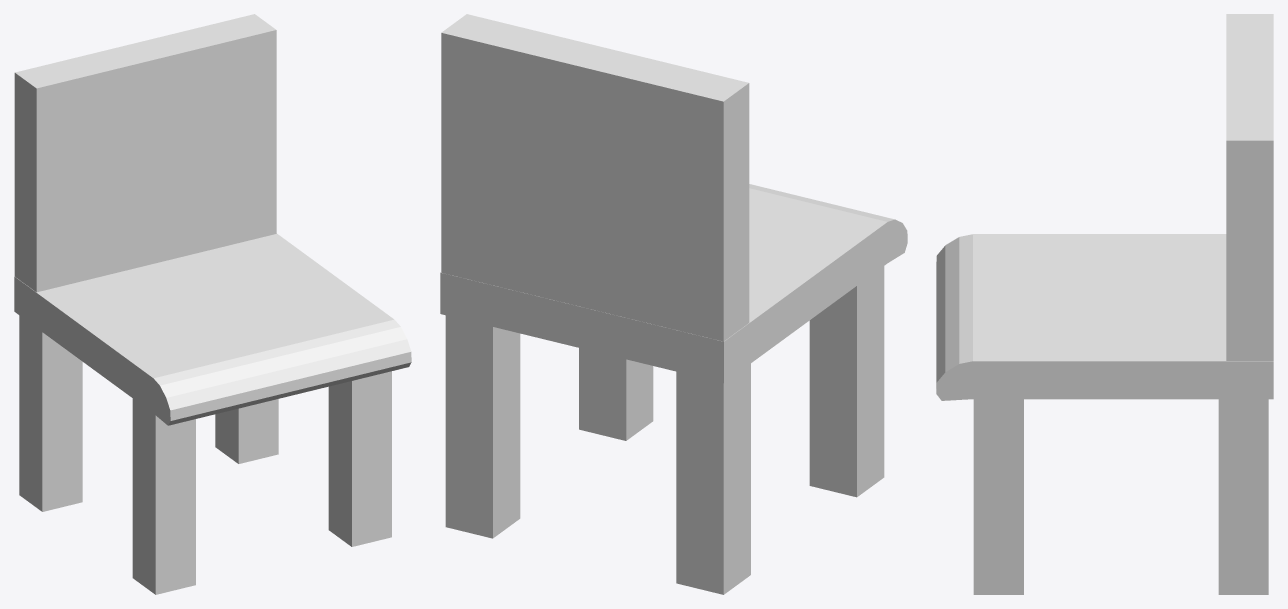
The model's file is chair.fbx.
3 views of the same model, side by side, from view 1: azimuth 30°, elevation 25°; view 2: azimuth 150°, elevation 25°; view 3: azimuth 270°, elevation 25° (orthographic). The views are drawn at different scales.
Visible parts, largest first — view 1: 立方体.005; view 2: 立方体.005; view 3: 立方体.005.
Part boxes in pixels (box(x1,y1,x2,y2)): 立方体.005: box(14, 14, 411, 594); 立方体.005: box(440, 14, 907, 594); 立方体.005: box(936, 14, 1273, 594).
Size of the model in its own units: 246 by 411 by 276.
